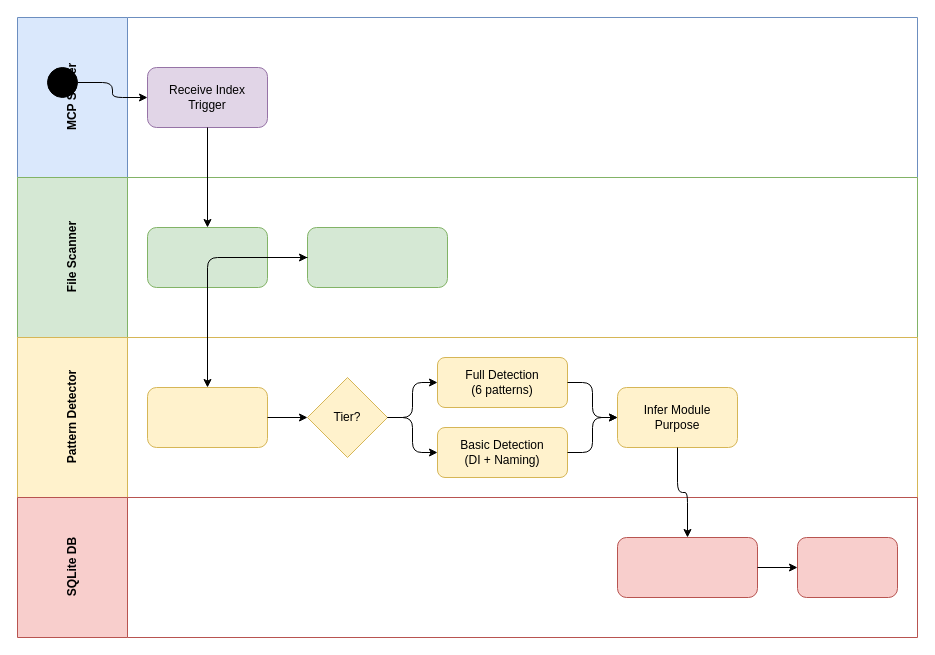
Image size: 935x655. Some labels were removed from this diagram. The shapes that lost their labels are listed below. From the top down, each one's centre as x and y in pixels, then its label:
At point 207,257: "Scan Source Files".
At point 377,257: "Parse Files (classes, funcs, imports)".
At point 207,417: "Aggregate Data per Module".
At point 687,567: "UPDATE modules SET patterns...".
At point 847,567: "Patterns Available for Query".
